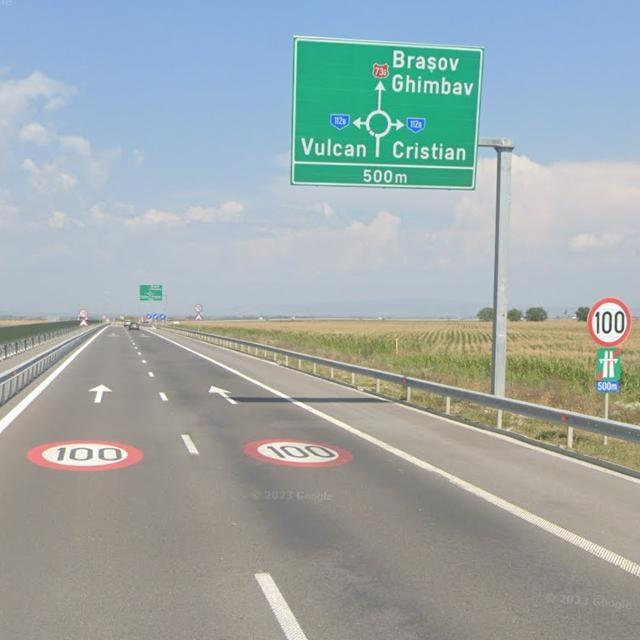forb_speed_over_100: (27, 437, 145, 470), (242, 436, 358, 469), (586, 296, 632, 345)
